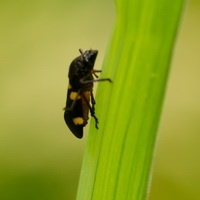insect: (64, 49, 111, 137)
